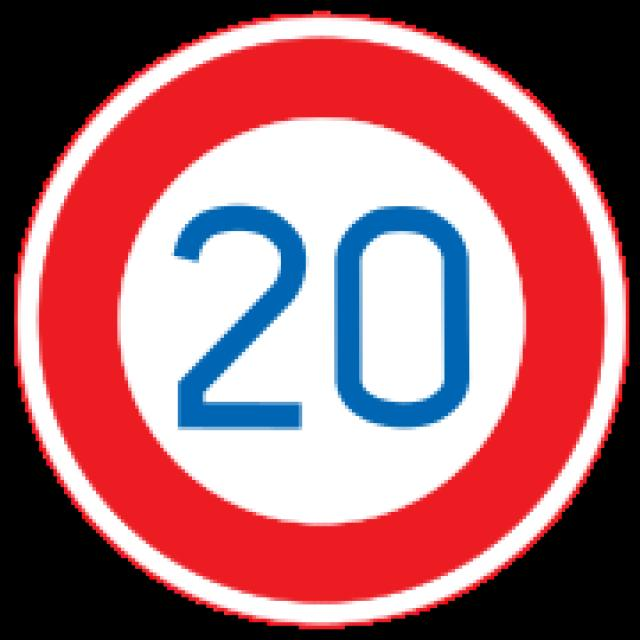Speed Limit -20-: (167, 201, 476, 434)
